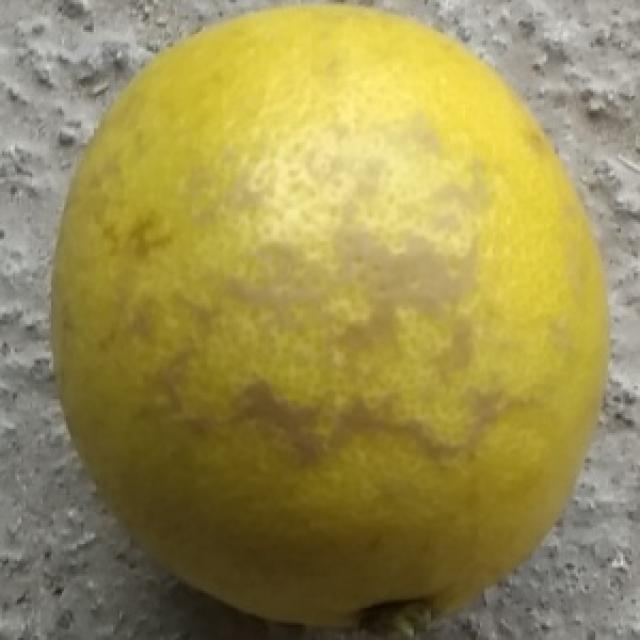overripe: (41, 0, 613, 640)
